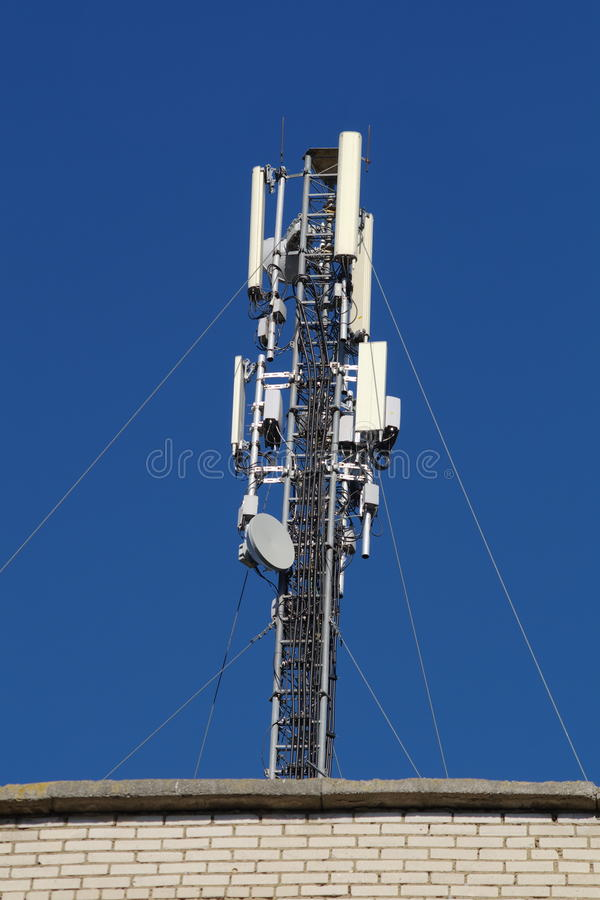sa: (238, 150, 278, 324), (332, 119, 366, 273), (226, 329, 262, 474), (351, 202, 378, 347), (357, 338, 390, 450)
